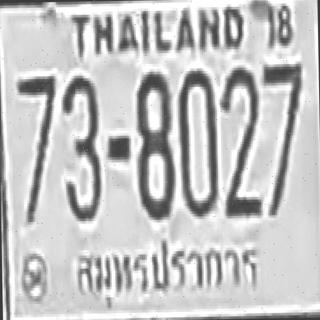N00: (177, 68, 217, 214)
N02: (220, 66, 260, 217), (219, 66, 259, 201)
N03: (60, 73, 100, 219)
N07: (262, 61, 303, 215), (15, 74, 57, 222)
N08: (134, 68, 174, 217)
P57: (77, 234, 262, 301)
